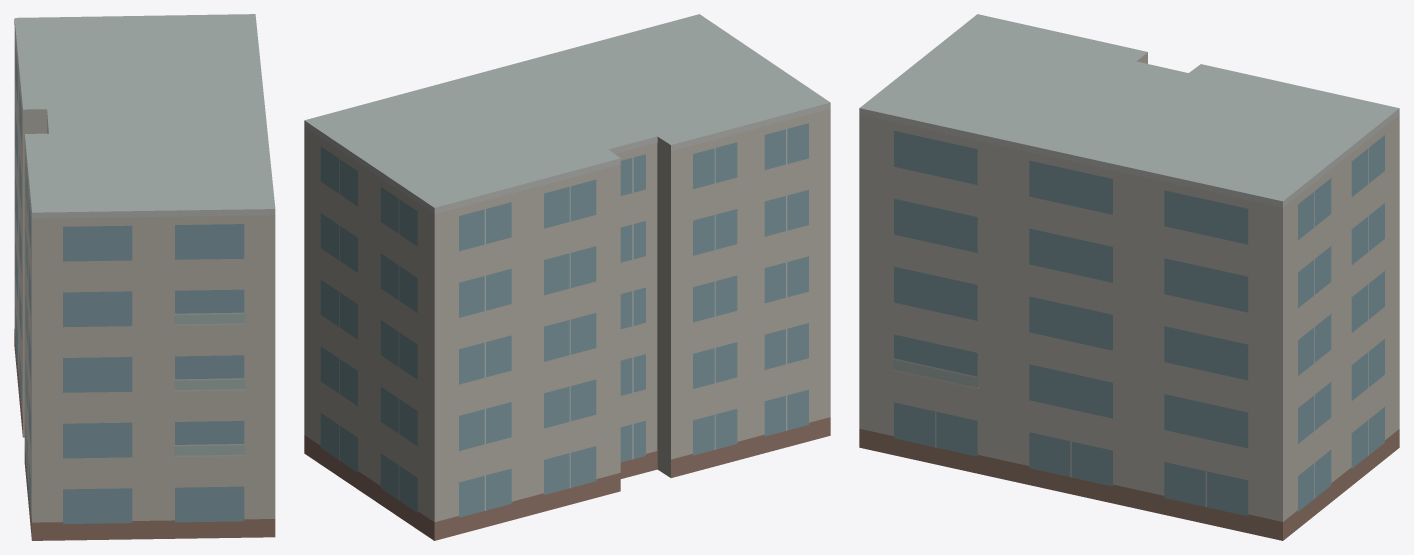
Rendered from survey-upis-32842791.glb.
The picture shows the model from 3 angles, left to right: view 1: azimuth 30°, elevation 25°; view 2: azimuth 150°, elevation 25°; view 3: azimuth 270°, elevation 25°; orthographic projection. The views are drawn at different scales.
Visible parts, largest first — view 1: survey-upis-32842791.tmp; view 2: survey-upis-32842791.tmp; view 3: survey-upis-32842791.tmp.
Boxes of the visible parts, x1,y1,x2,y2 form: survey-upis-32842791.tmp: (14, 14, 275, 540); survey-upis-32842791.tmp: (304, 14, 830, 540); survey-upis-32842791.tmp: (859, 14, 1399, 540).
Bounding box in the file's own units: 15.51 × 13.1 × 18.89.
